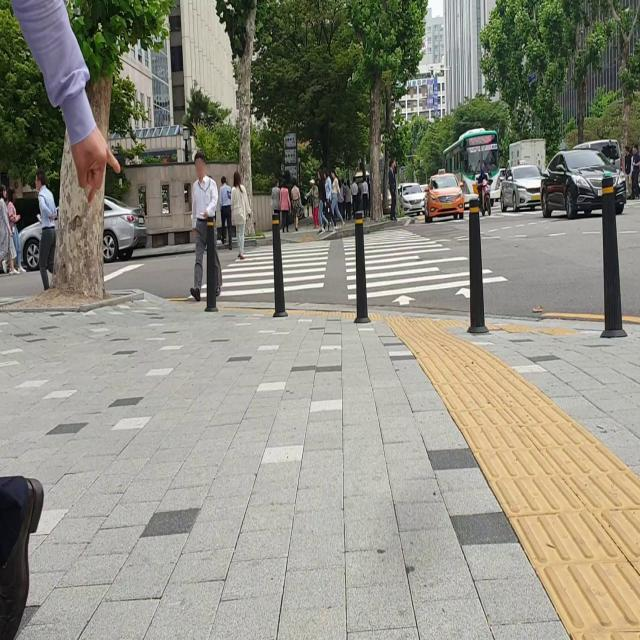횡단보도: (187, 228, 508, 306)
